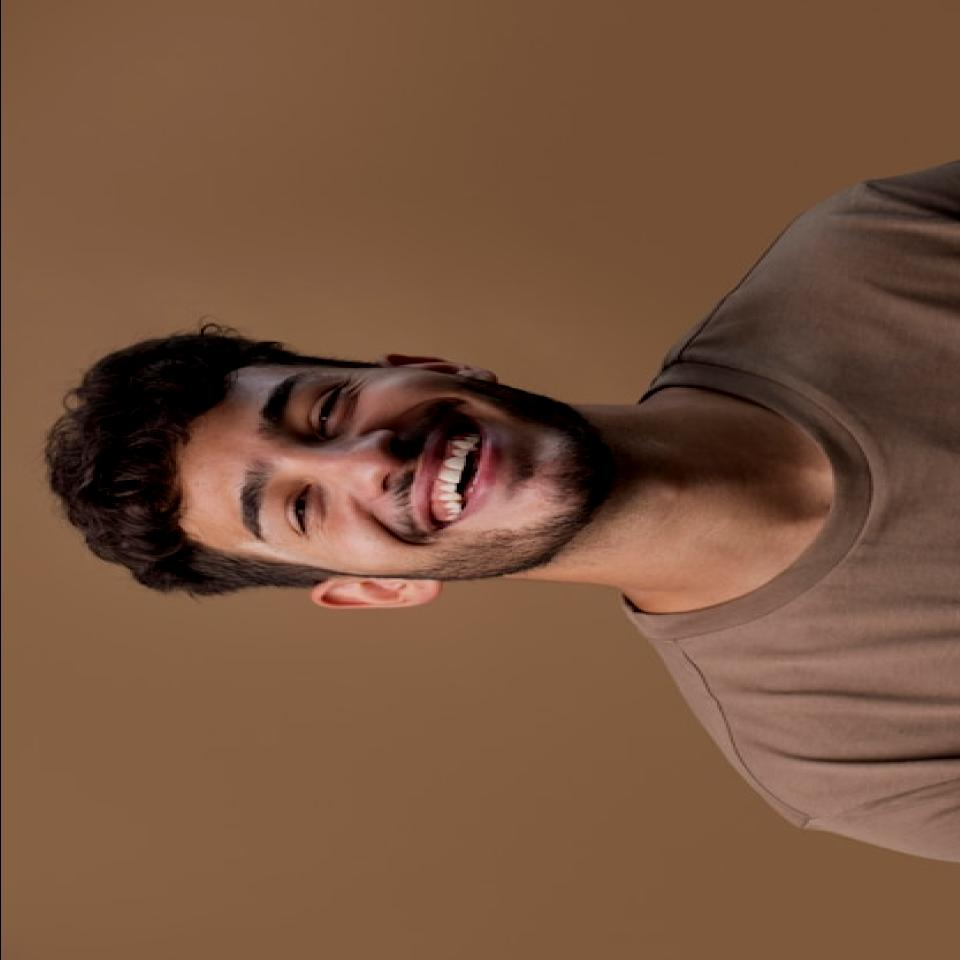Happiness: (198, 362, 599, 593)
